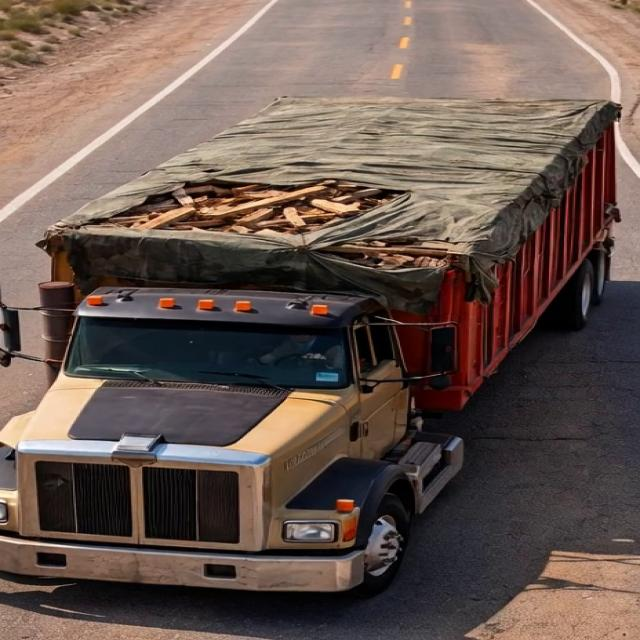trailer: (49, 92, 612, 282)
truck: (6, 67, 622, 600)
